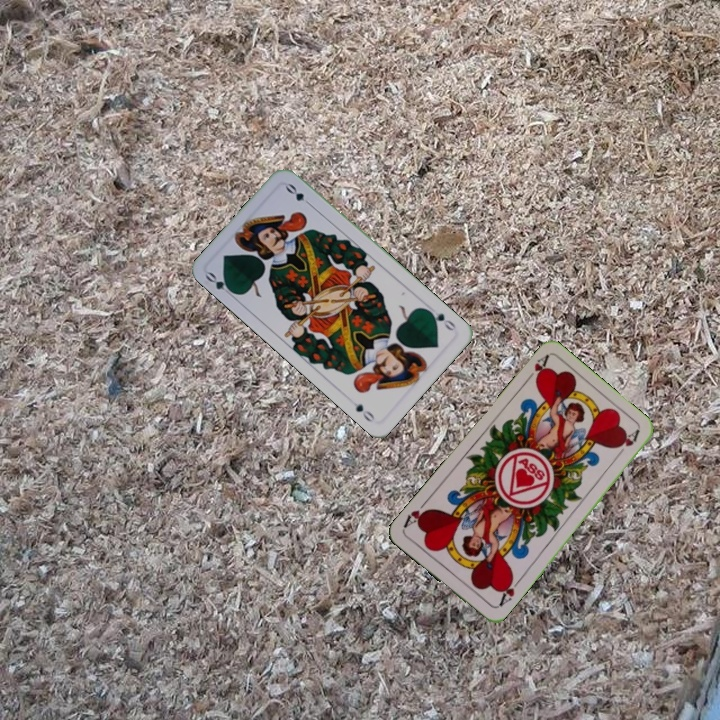GO: (201, 267, 238, 300), (423, 306, 458, 333)
HA: (493, 572, 523, 610), (520, 351, 551, 386)
